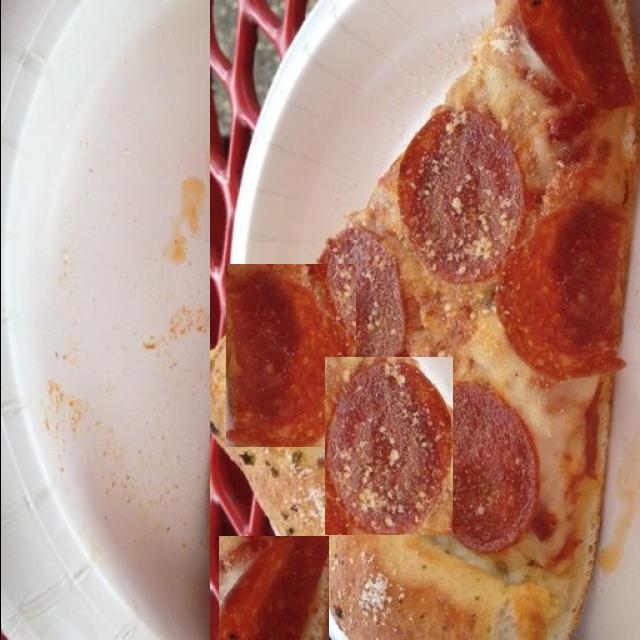pepperoni: (225, 264, 355, 447), (324, 357, 452, 535), (313, 83, 434, 257), (442, 252, 538, 412), (218, 536, 328, 640)
pizza: (209, 0, 640, 640)
